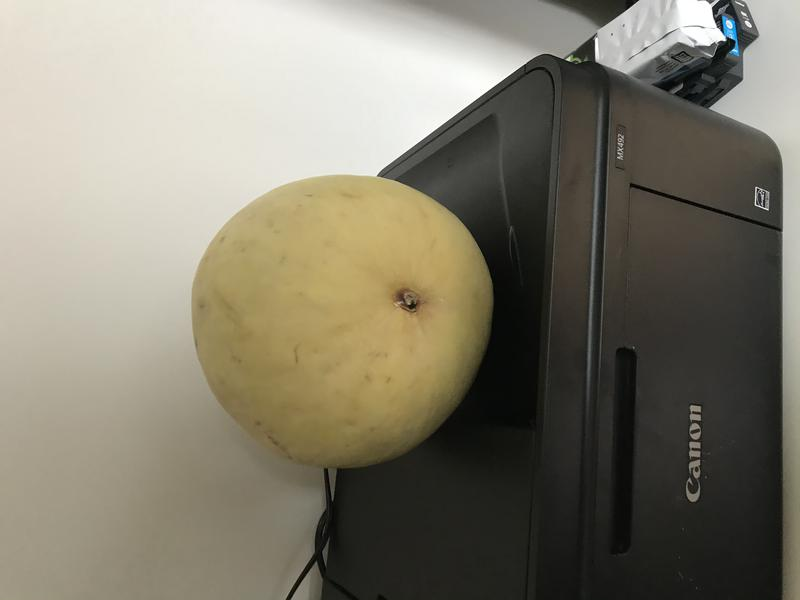honeydew: (182, 165, 498, 478)
